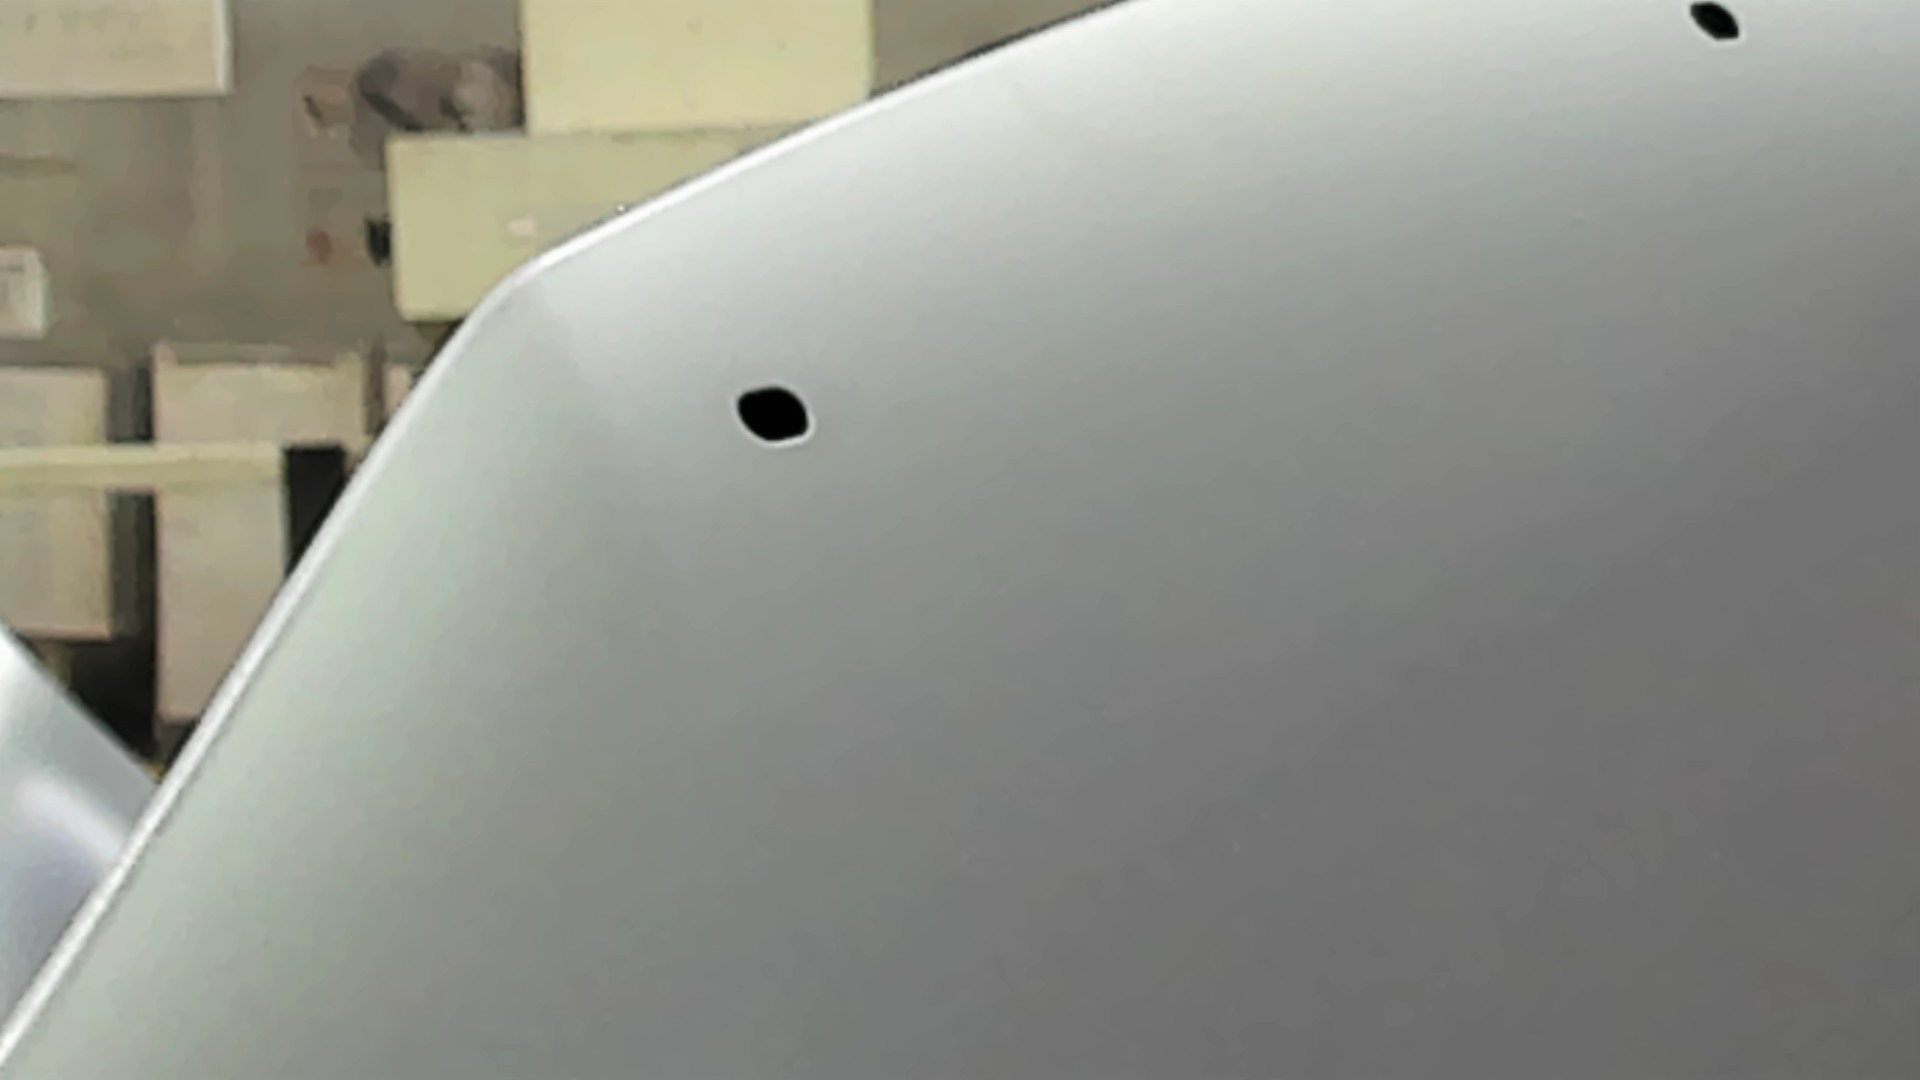amorfo: (728, 378, 820, 451), (1677, 1, 1751, 47)
capo: (874, 113, 1920, 1080)
